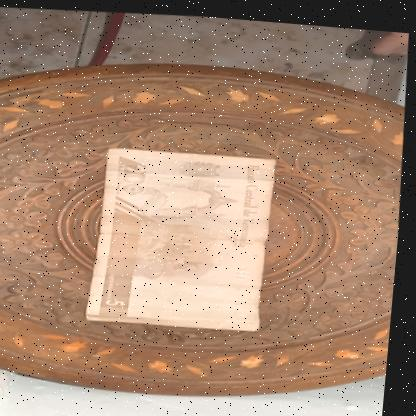five-back-vef: (84, 137, 283, 333)
